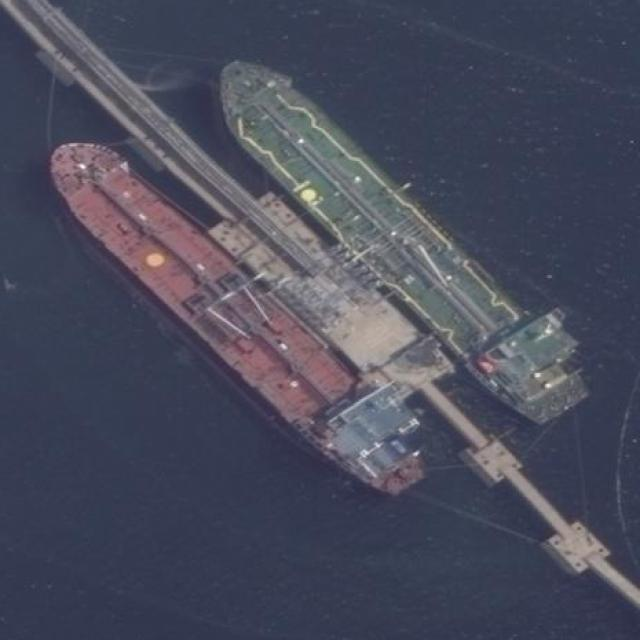Oil Tanker: (30, 119, 442, 513), (193, 39, 597, 438)
